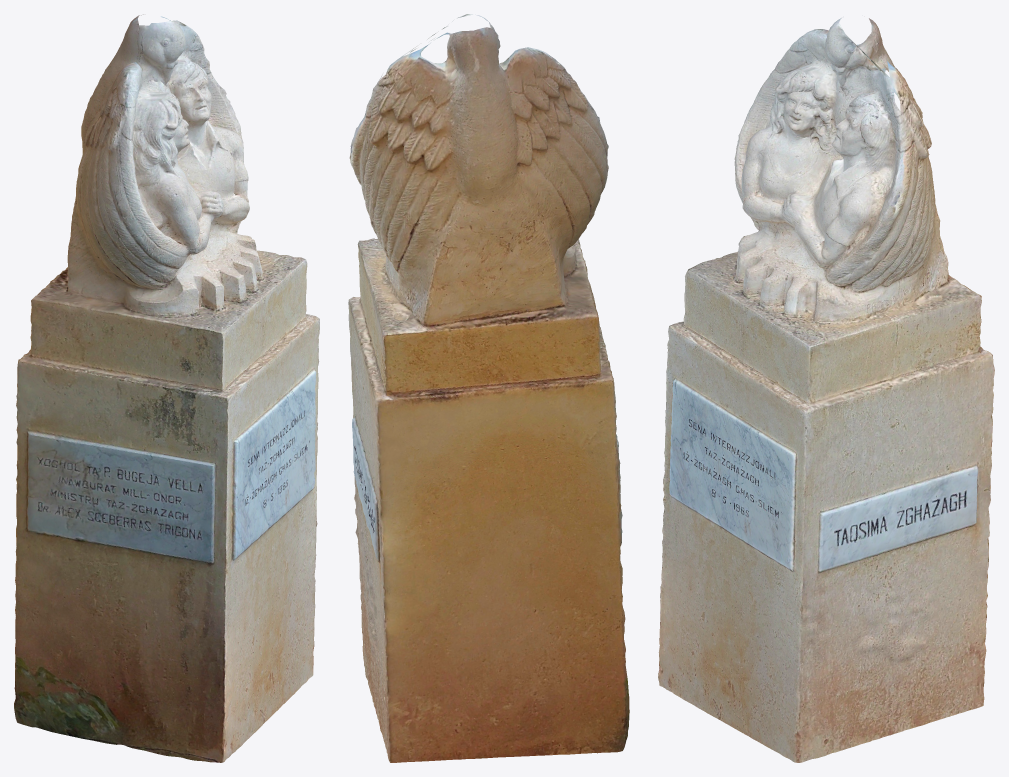
File: 3Ddata.glb
The picture shows the model from 3 angles, left to right: view 1: azimuth 30°, elevation 25°; view 2: azimuth 150°, elevation 25°; view 3: azimuth 270°, elevation 25°; orthographic projection. The views are drawn at different scales.
Parts seen in each view (by area): view 1: 019d74a2-f9a9-4212-bfad-a32dd94b4269; view 2: 019d74a2-f9a9-4212-bfad-a32dd94b4269; view 3: 019d74a2-f9a9-4212-bfad-a32dd94b4269.
Part boxes in pixels (x1,y1,x2,y2): 019d74a2-f9a9-4212-bfad-a32dd94b4269: [14, 14, 319, 762]; 019d74a2-f9a9-4212-bfad-a32dd94b4269: [348, 14, 629, 762]; 019d74a2-f9a9-4212-bfad-a32dd94b4269: [658, 18, 994, 762].
Bounding box in the file's own units: 0.52 × 1.16 × 0.5228.
1 material, 1 textured.
